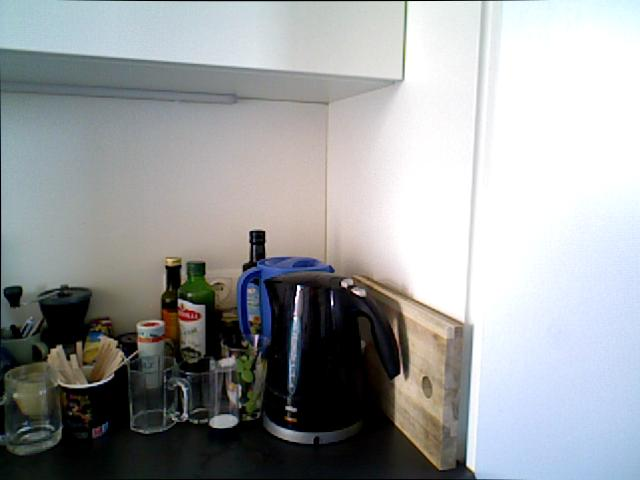bench: (176, 260, 215, 424), (239, 229, 266, 342), (160, 256, 182, 358)
handbag: (3, 361, 62, 456), (127, 355, 190, 434), (57, 364, 115, 442), (172, 353, 223, 427), (206, 357, 241, 430)
hot dog: (466, 1, 640, 480)
